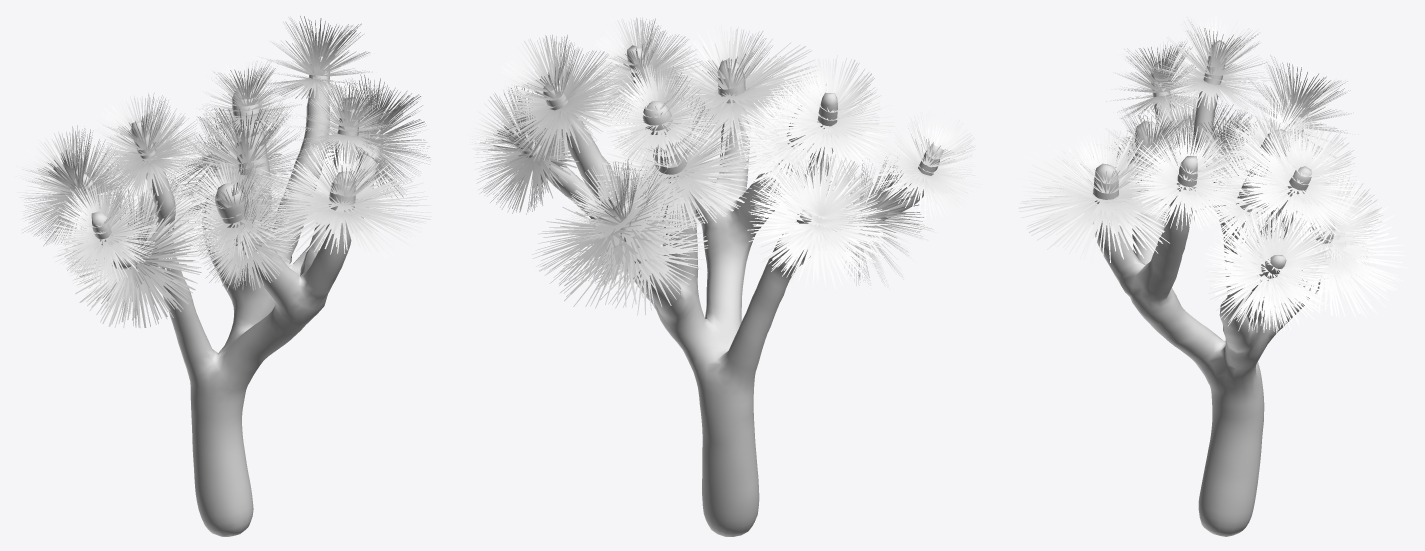
The model's file is Tree1.fbx.
3 renders of one model, left to right at view 1: azimuth 30°, elevation 25°; view 2: azimuth 150°, elevation 25°; view 3: azimuth 270°, elevation 25°, orthographic. The views are drawn at different scales.
Visible parts, largest first — view 1: Grid; view 2: Grid; view 3: Grid.
Part boxes in pixels (bbox=[...]): Grid: bbox=[15, 16, 431, 536]; Grid: bbox=[467, 17, 982, 536]; Grid: bbox=[1017, 17, 1408, 536].
Size of the model in its own units: 743 by 785 by 598.
